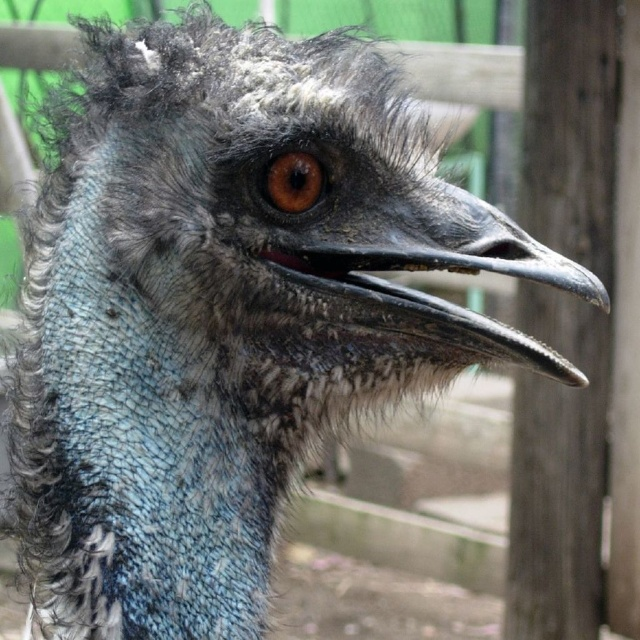Ostrich: (0, 0, 610, 640)
